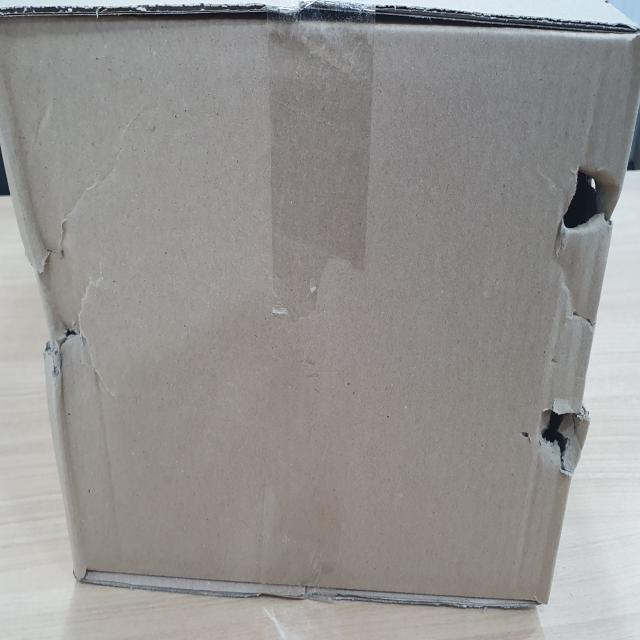hole: (29, 222, 112, 393), (551, 140, 619, 250), (529, 373, 585, 483)
